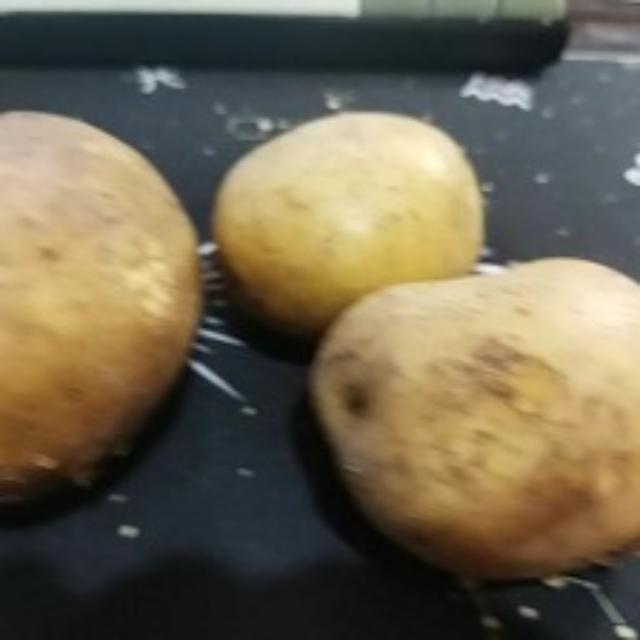Damaged potato: (306, 259, 640, 591), (0, 110, 202, 512)
Potato: (206, 102, 489, 332)
